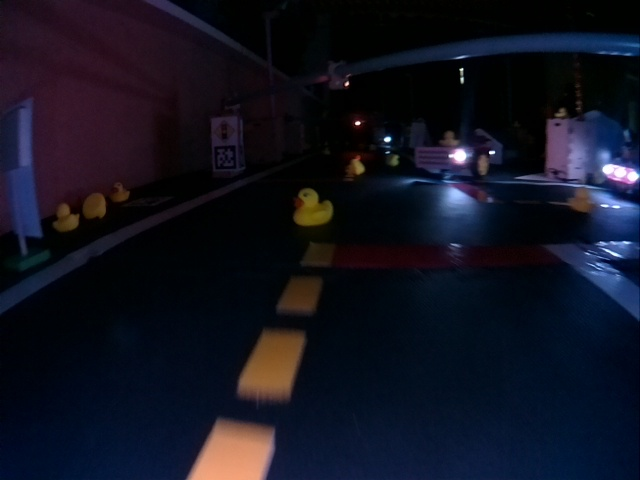Duckie: (293, 190, 334, 223), (81, 192, 107, 220), (53, 203, 77, 232), (570, 187, 591, 212), (111, 183, 130, 202), (348, 159, 367, 175), (441, 134, 456, 144)
QR code: (214, 146, 236, 172)
Signal sign: (214, 119, 237, 140)
Traffic light: (325, 61, 349, 89)
